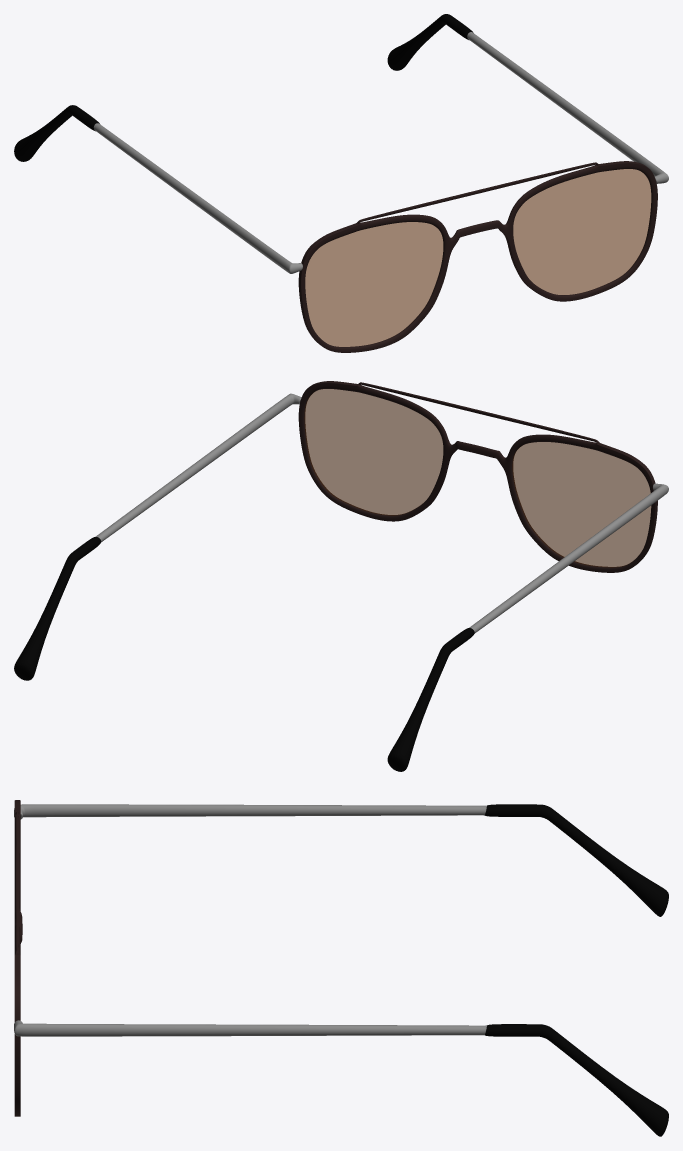
File: glasses-11.glb
3 views of the same model, one above another, from view 1: azimuth 30°, elevation 25°; view 2: azimuth 150°, elevation 25°; view 3: azimuth 270°, elevation 25° (orthographic). The views are drawn at different scales.
Visible parts, largest first — view 1: Plane.001, Plane, Cylinder; view 2: Plane.001, Cylinder, Plane; view 3: Cylinder, Plane.
Boxes of the visible parts, bbox=[...] form: Plane.001: bbox=[305, 169, 651, 346]; Plane: bbox=[298, 161, 657, 352]; Cylinder: bbox=[14, 14, 668, 273]; Plane.001: bbox=[304, 389, 651, 567]; Cylinder: bbox=[14, 393, 668, 771]; Plane: bbox=[298, 381, 657, 572]; Cylinder: bbox=[14, 804, 668, 1136]; Plane: bbox=[14, 800, 22, 1116].
Bounding box in the file's own units: 17.01 × 5.49 × 20.36.
